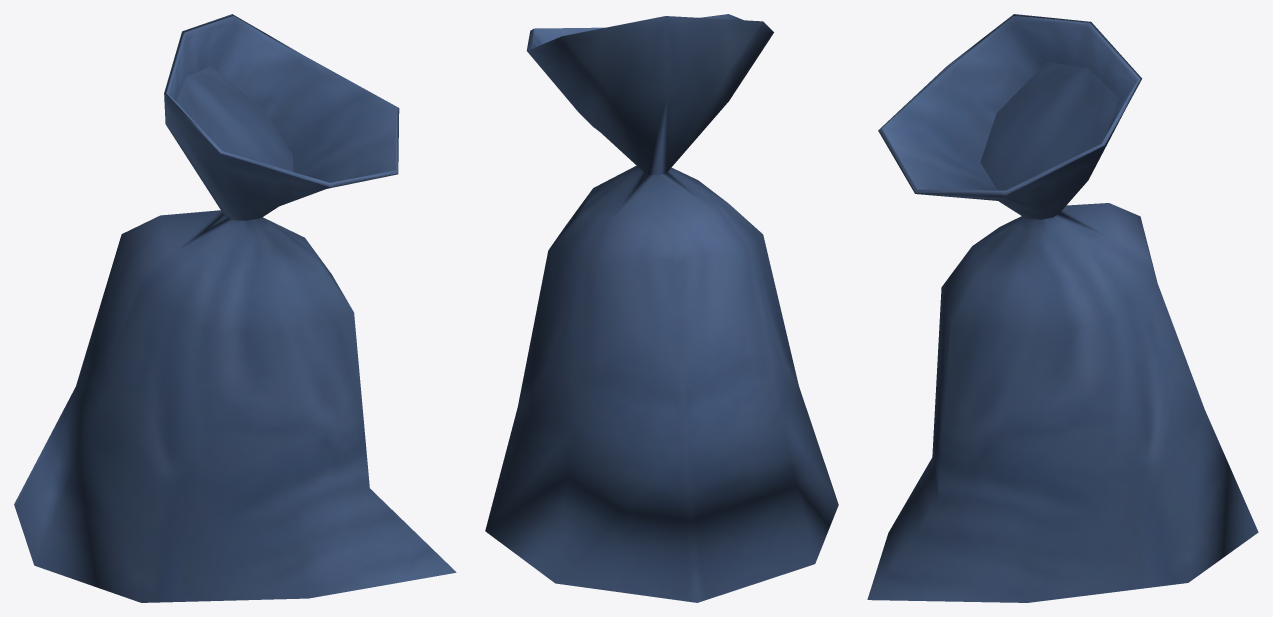
The model's file is PiErSenGongYu_01_laji_01.FBX.
3 views of the same model, side by side, from view 1: azimuth 30°, elevation 25°; view 2: azimuth 150°, elevation 25°; view 3: azimuth 270°, elevation 25° (orthographic). The views are drawn at different scales.
Parts seen in each view (by area): view 1: PiErSenDeGongYu_laji_01; view 2: PiErSenDeGongYu_laji_01; view 3: PiErSenDeGongYu_laji_01.
Boxes of the visible parts, box(x1,y1,x2,y2) form: PiErSenDeGongYu_laji_01: box(14, 14, 456, 602); PiErSenDeGongYu_laji_01: box(485, 14, 838, 602); PiErSenDeGongYu_laji_01: box(867, 14, 1258, 602).
Bounding box in the file's own units: 129 × 191 × 136.
